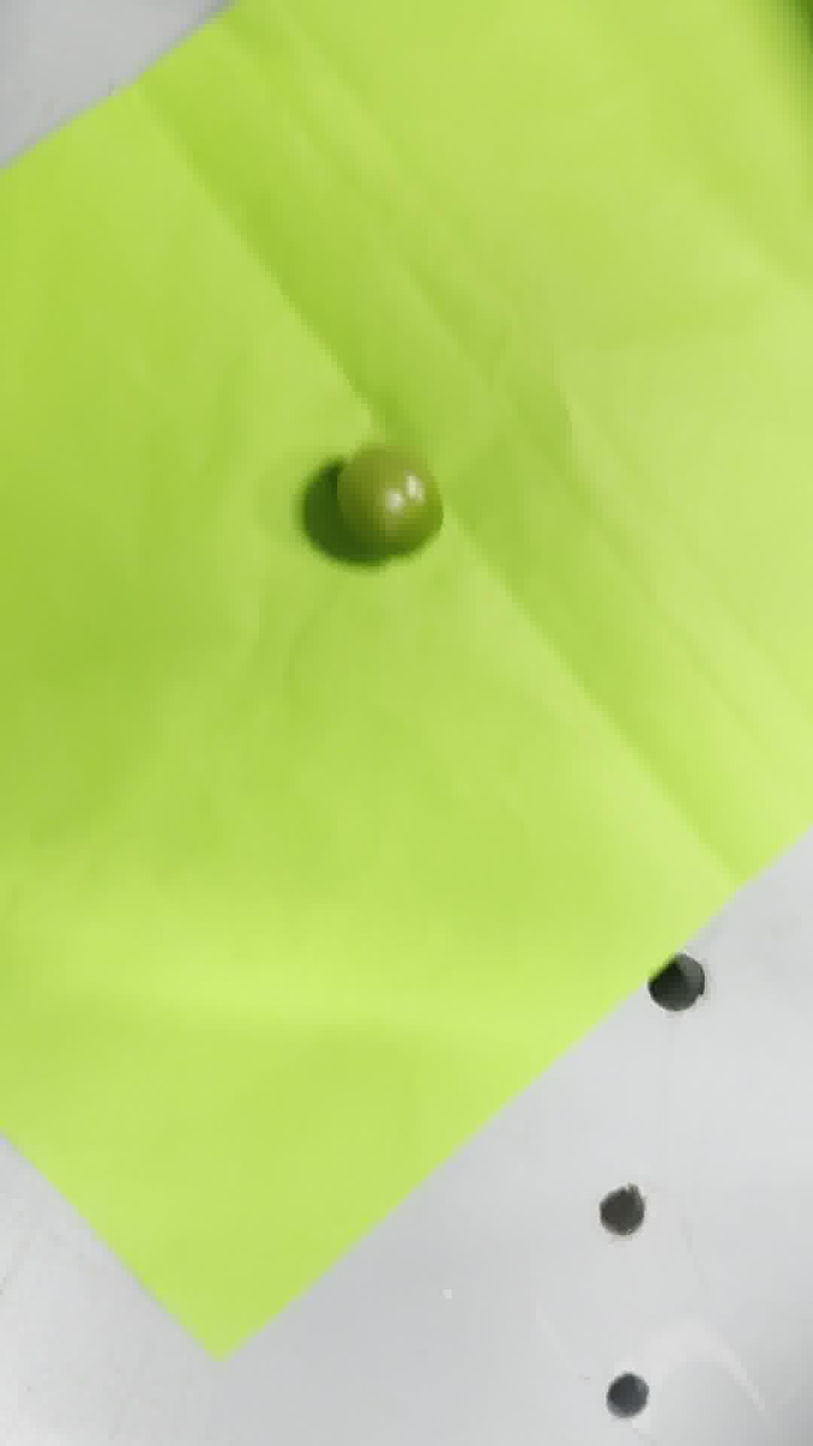green_cherry_tomato: (336, 444, 442, 554)
